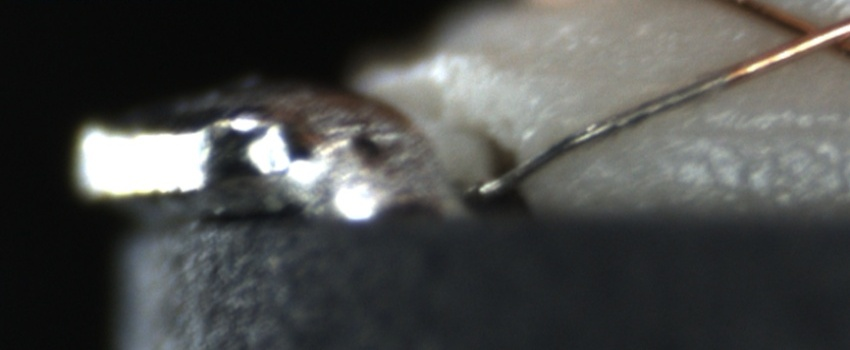CL: (764, 5, 849, 64)
DL: (684, 100, 850, 159)
TS: (473, 69, 726, 198)
TTCW: (470, 40, 807, 200)
